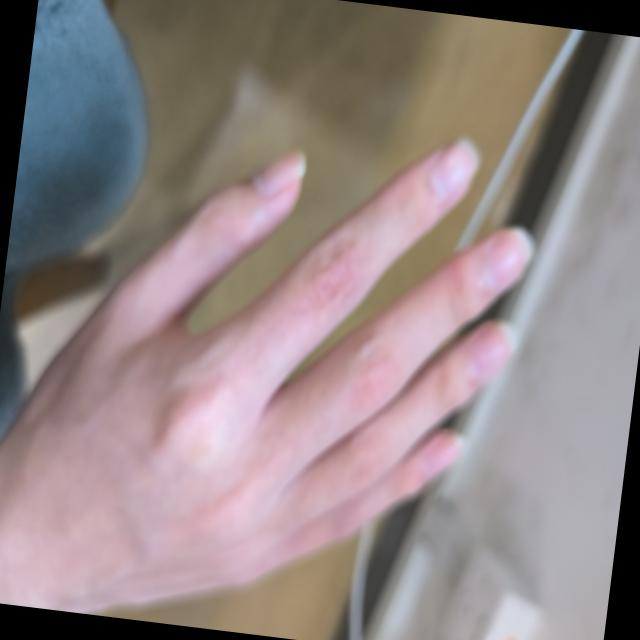Nail: (431, 135, 478, 202), (487, 227, 530, 288), (254, 150, 305, 199), (469, 322, 513, 378), (426, 434, 463, 474)
